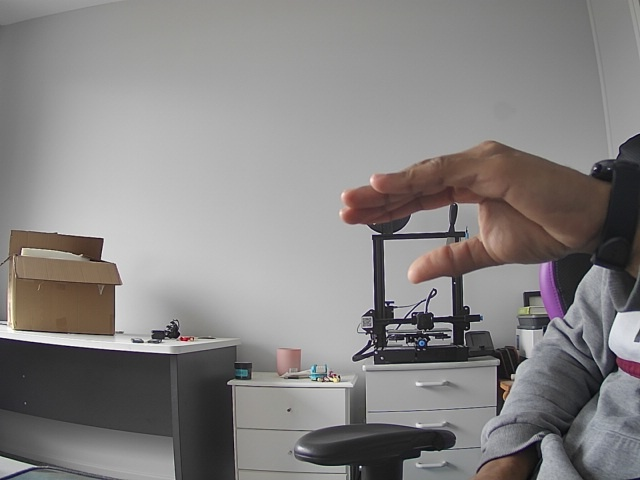No: (306, 137, 608, 305)
